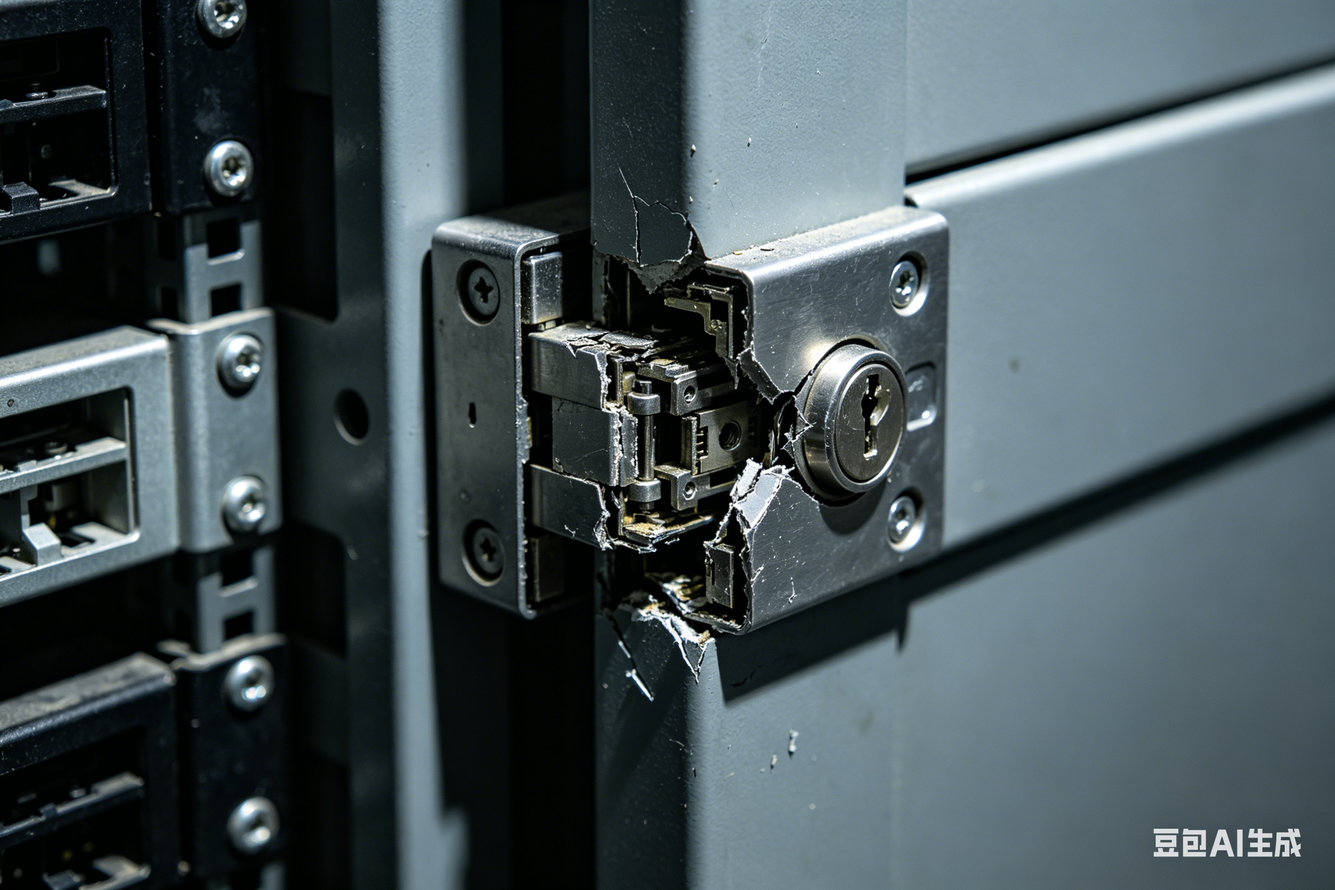BadLock: (591, 251, 758, 649)
